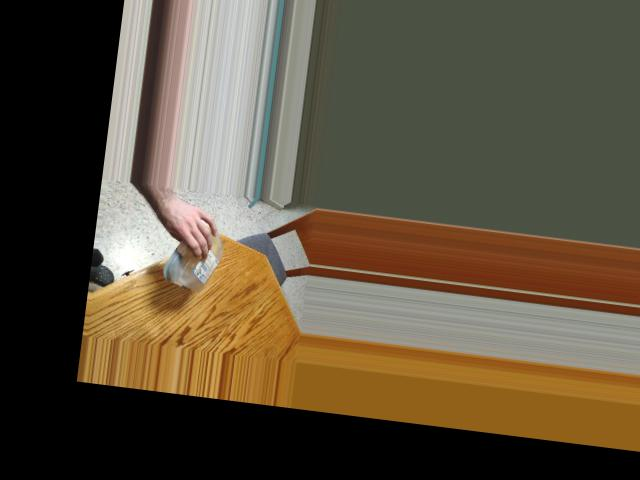cheese: (168, 226, 217, 289)
